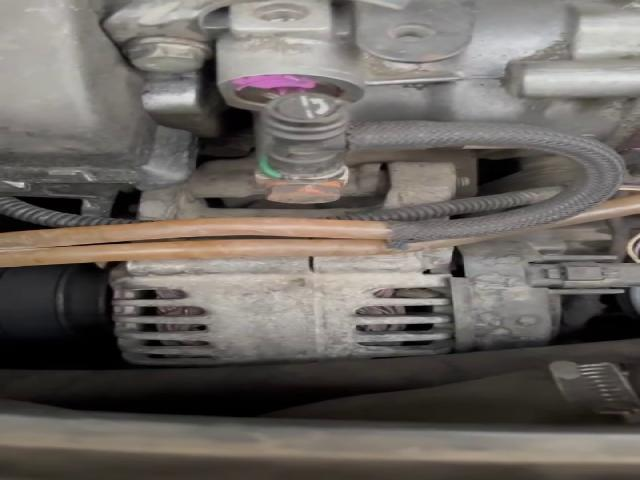alternator: (104, 221, 632, 368)
high_pressure_pump: (207, 1, 638, 153)
